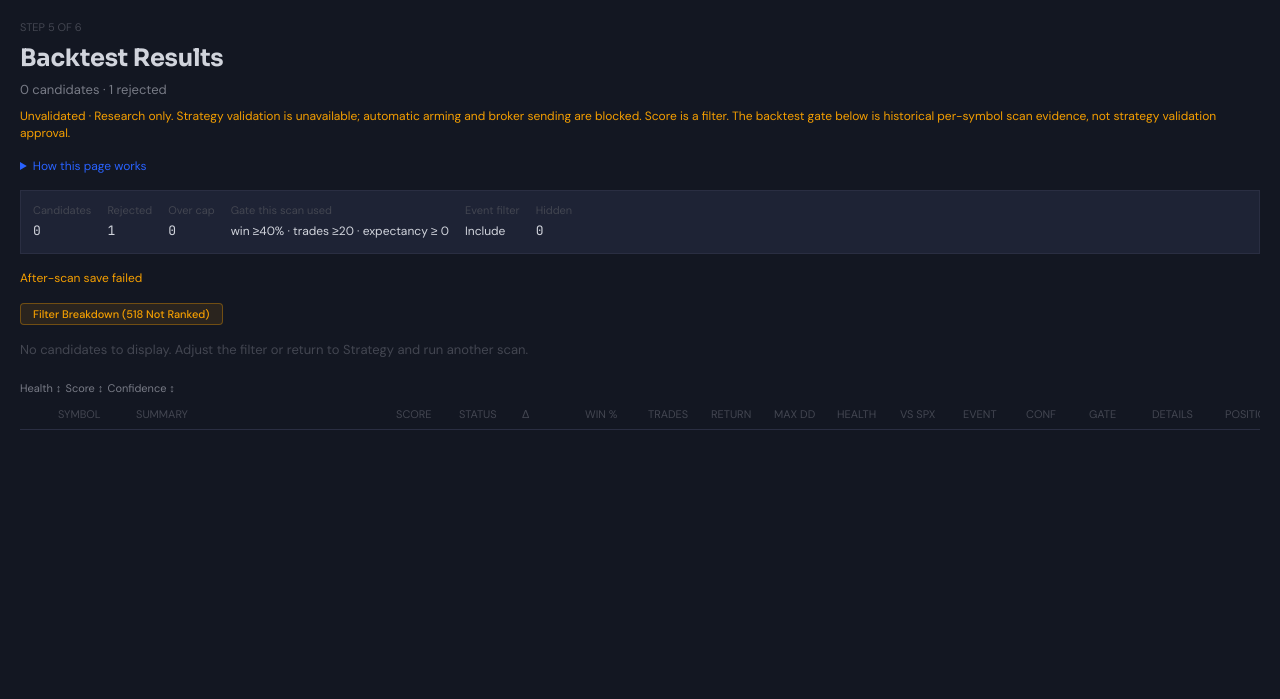
Test: shows the screenshot scan as a stock hierarchy even when no candidates survive
Click the button "Filter Breakdown (518 Not Ranked)". click: (121, 314)
box: [20,303,222,325]
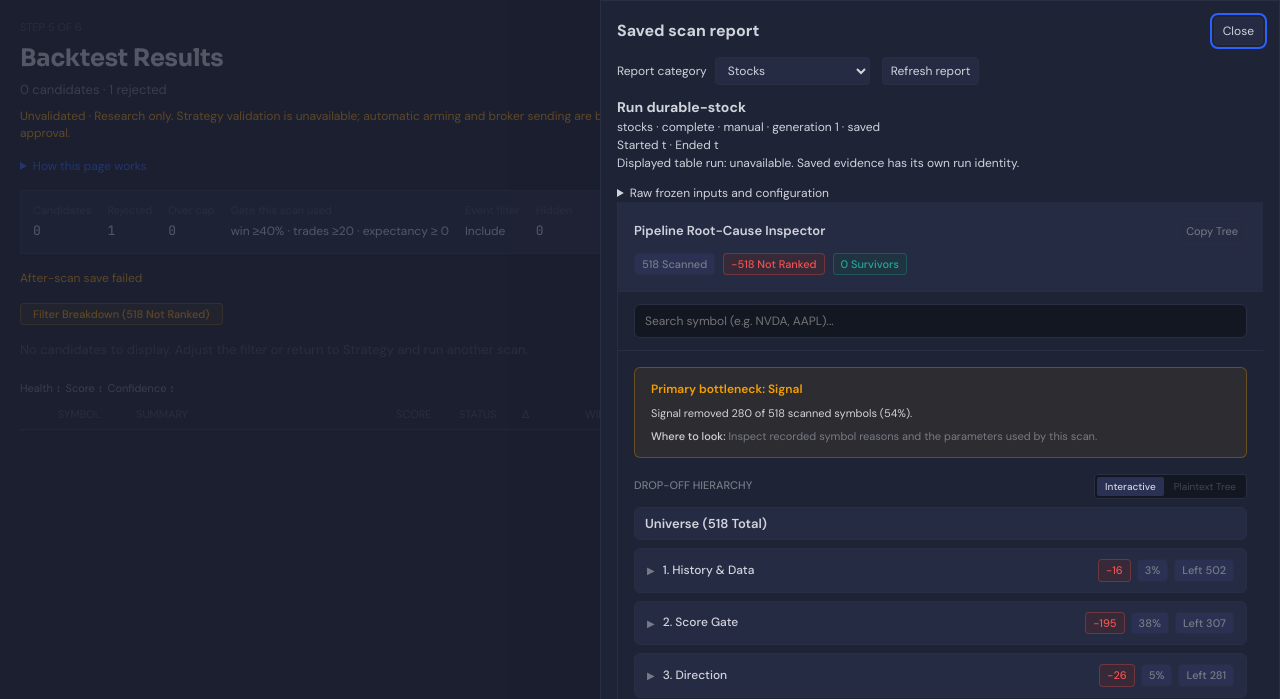
Result: the text "Pipeline Root-Cause Inspector" is shown at [634,222,825,239]
Result: the text "518 Scanned" is shown at [634,253,715,275]
Result: the text "0 Survivors" is shown at [832,253,907,275]
Type "DAY" into the field. click: (940, 321)
box: [634,304,1247,338]
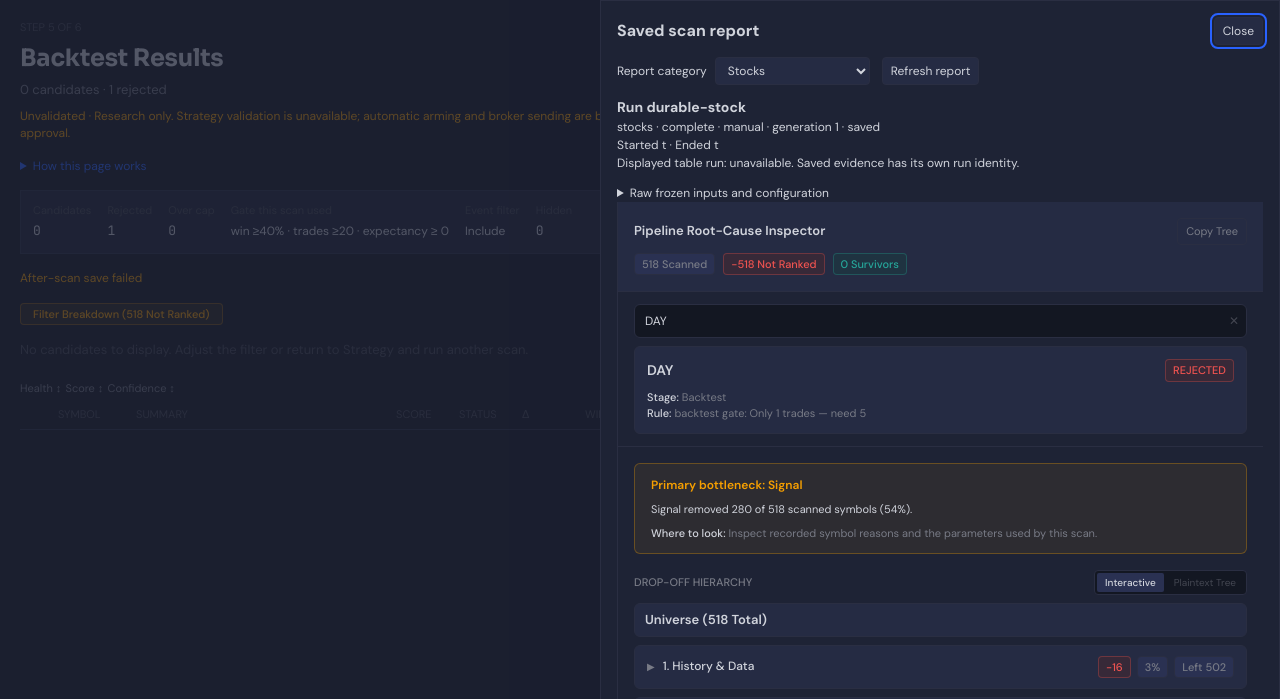
Result: the text "backtest gate: Only 1 trades — need 5" is shown at [674,406,866,420]
Click the button "Plaintext Tree". click: (1205, 583)
box: [1166,573,1244,592]
(page scrolled)
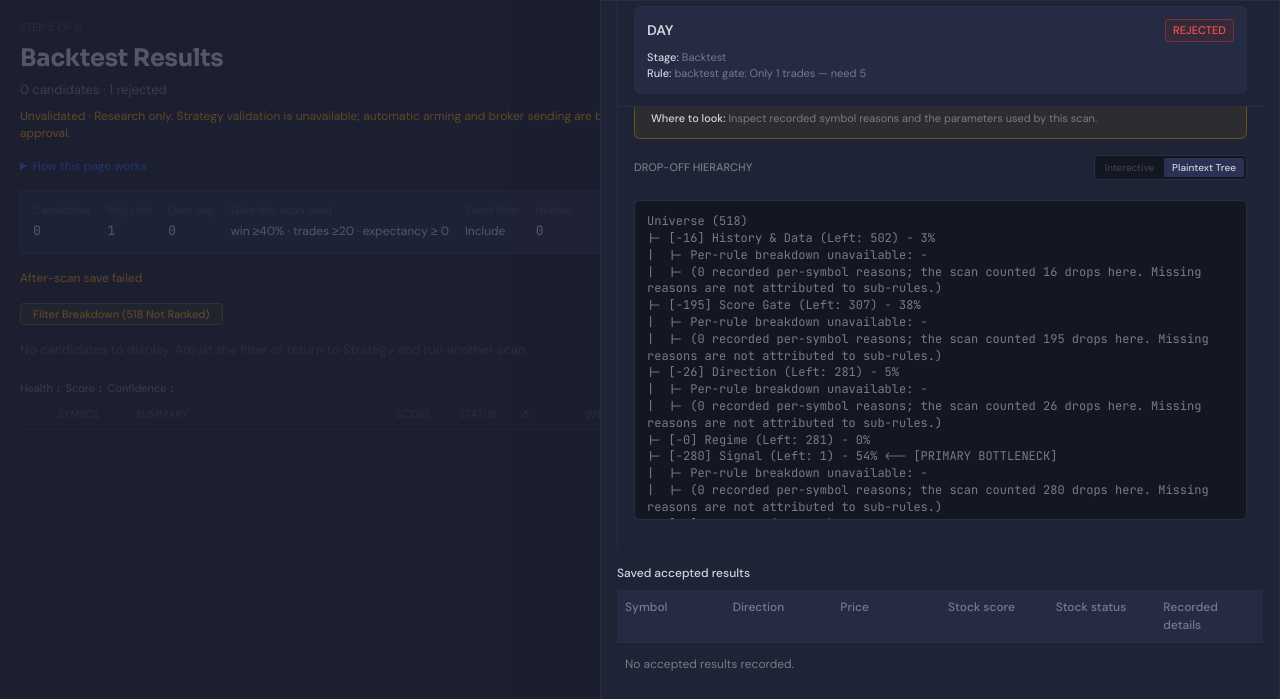
Result: the text "Left: 502" is shown at [647,213,1216,548]
Result: the text "Left: 307" is shown at [647,213,1216,548]
Result: the text "Left: 281" is shown at [647,213,1216,548]
